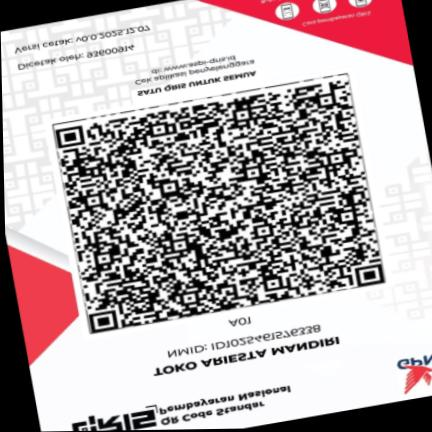Barcode_Palsu: (44, 67, 396, 342)
